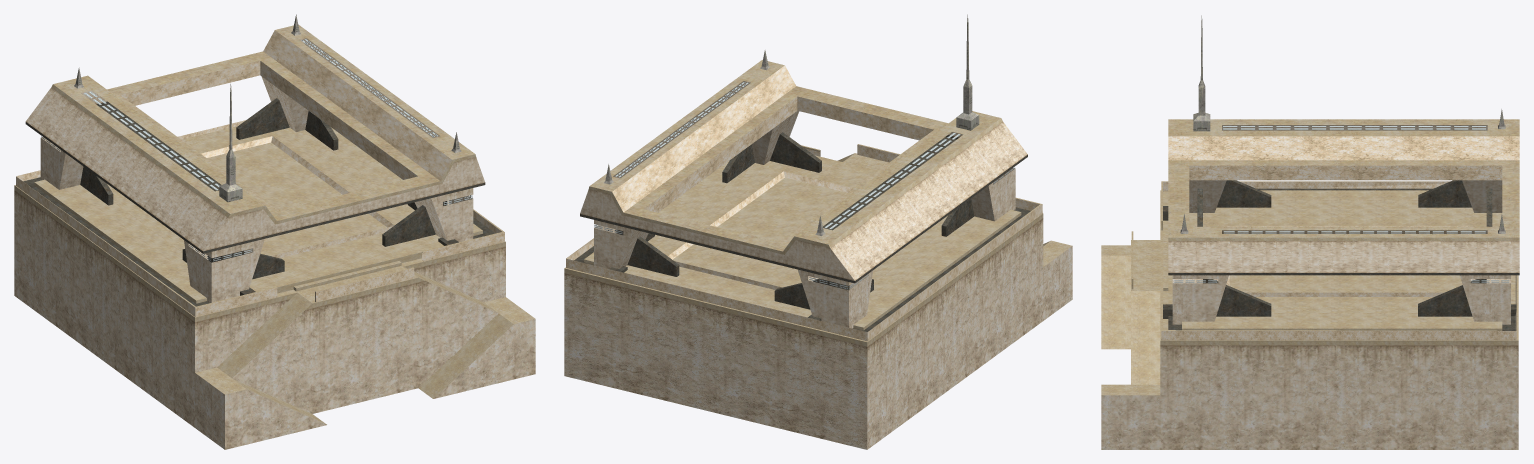
The model's file is ply_tato_shuttleport_s01_l1.fbx.
3 renders of one model, left to right at view 1: azimuth 30°, elevation 25°; view 2: azimuth 150°, elevation 25°; view 3: azimuth 270°, elevation 25°, orthographic. The views are drawn at different scales.
Parts seen in each view (by area): view 1: mesh_node; view 2: mesh_node; view 3: mesh_node.
Boxes of the visible parts, x1=… form: mesh_node: x1=14, y1=14, x2=535, y2=449; mesh_node: x1=564, y1=14, x2=1072, y2=449; mesh_node: x1=1101, y1=15, x2=1519, y2=449.
Bounding box in the file's own units: 31.92 × 31.06 × 37.6.
